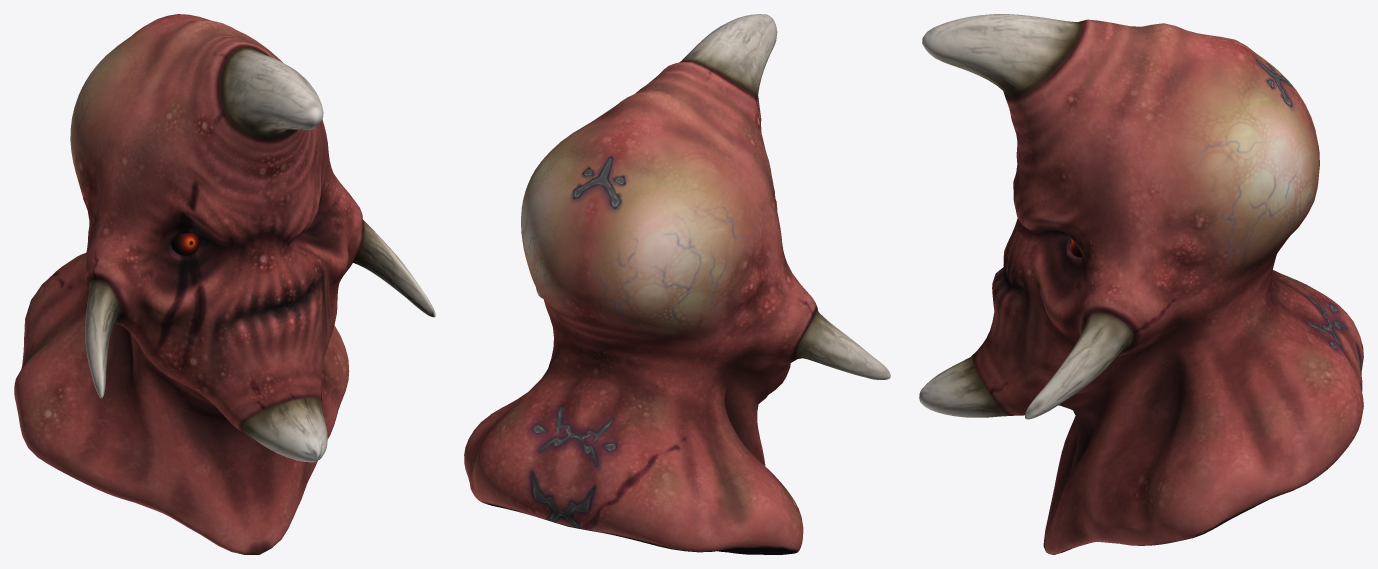
Rendered from moon_demon.gltf.
The picture shows the model from 3 angles, left to right: view 1: azimuth 30°, elevation 25°; view 2: azimuth 150°, elevation 25°; view 3: azimuth 270°, elevation 25°; orthographic projection. The views are drawn at different scales.
Parts seen in each view (by area): view 1: Group28613, Group11438; view 2: Group28613; view 3: Group28613.
Part boxes in pixels (box(x1,y1,x2,y2)): Group28613: box(14, 14, 435, 554); Group11438: box(171, 233, 199, 255); Group28613: box(464, 14, 890, 554); Group28613: box(919, 14, 1363, 554).
Bounding box in the file's own units: 4.36 × 6.24 × 4.72.
Materials: 2 (2 with a texture image).
